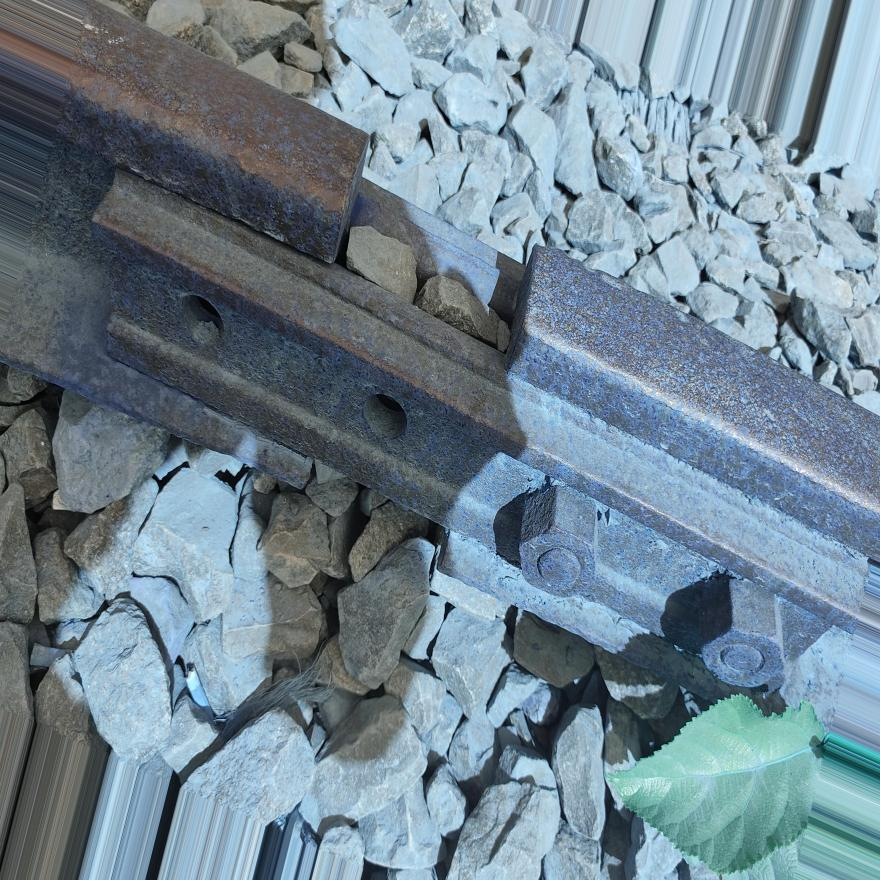railway-gap: (286, 120, 592, 392), (276, 434, 481, 582)
